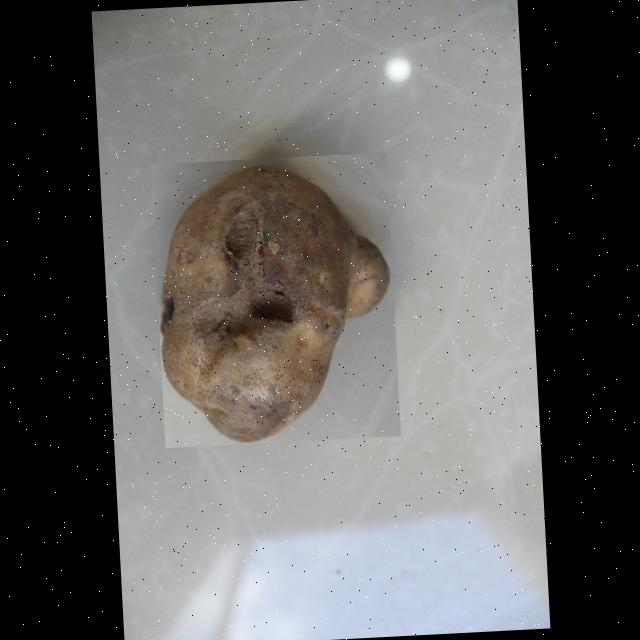Diseased-fungal potato: (150, 152, 400, 448)
